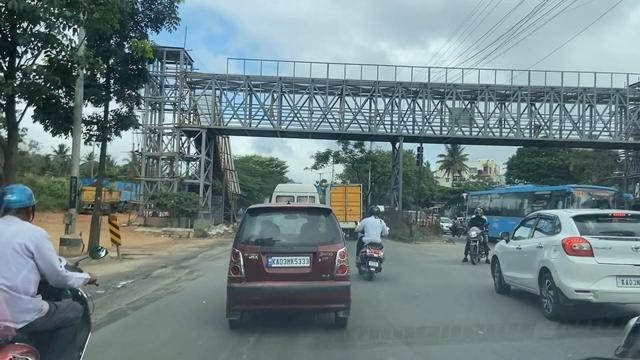LMV: (231, 207, 353, 330), (355, 207, 386, 280)
RoadDamages: (107, 241, 221, 322)
